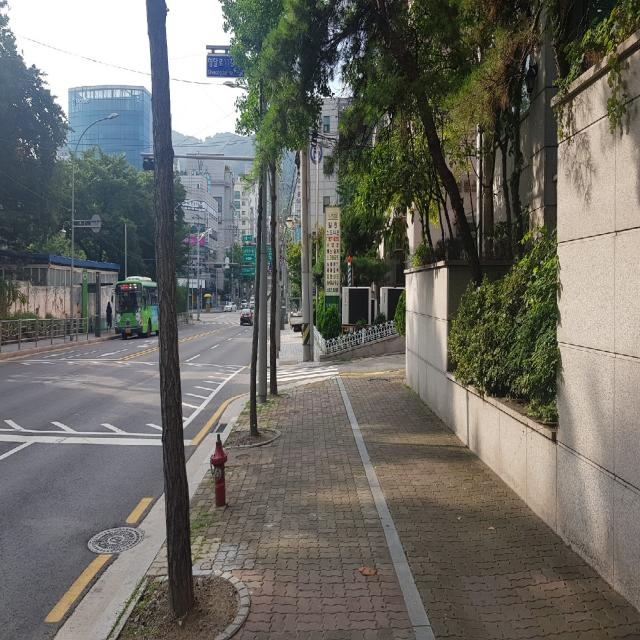횡단보도: (256, 364, 339, 384)
